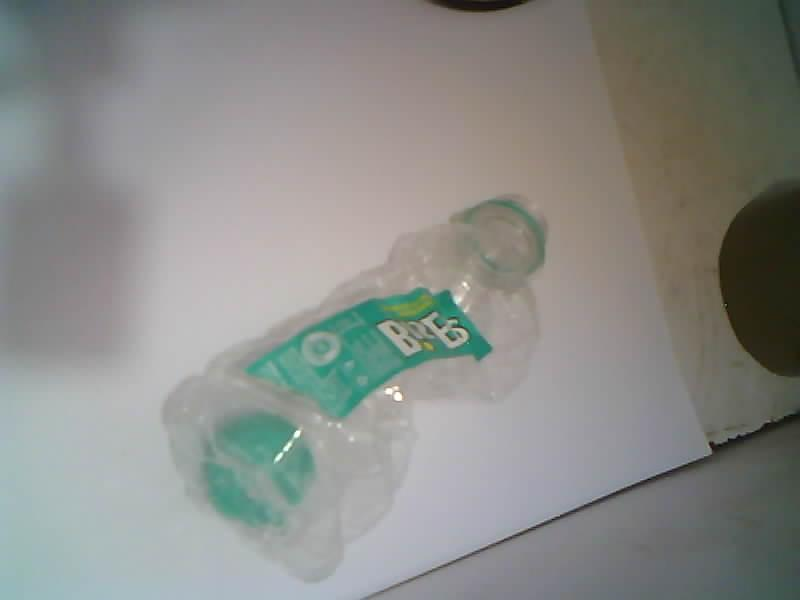non-biodegradable: (163, 199, 545, 581)
